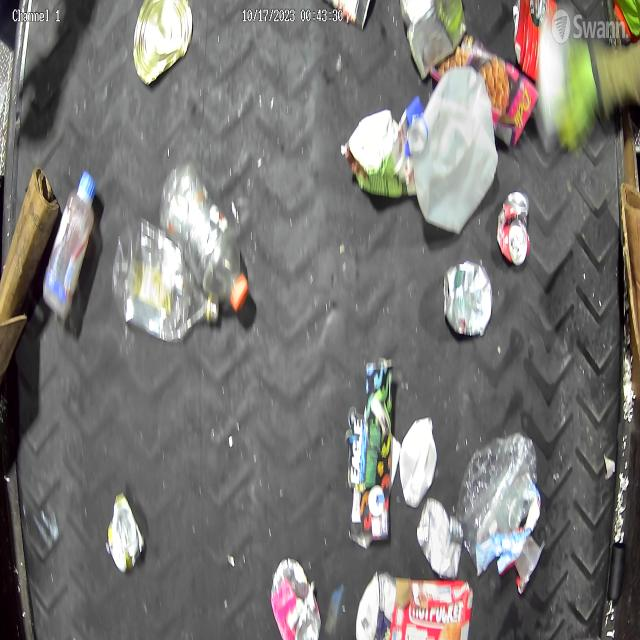can: (400, 0, 468, 79), (134, 0, 194, 87), (271, 557, 321, 640), (444, 260, 494, 339), (417, 500, 465, 579), (497, 190, 530, 269)
milk_jug: (410, 63, 497, 231)
non_white_jug: (345, 94, 424, 198)
plastic_bottle: (113, 221, 217, 343), (162, 162, 248, 304), (458, 432, 540, 574), (42, 166, 96, 314)
